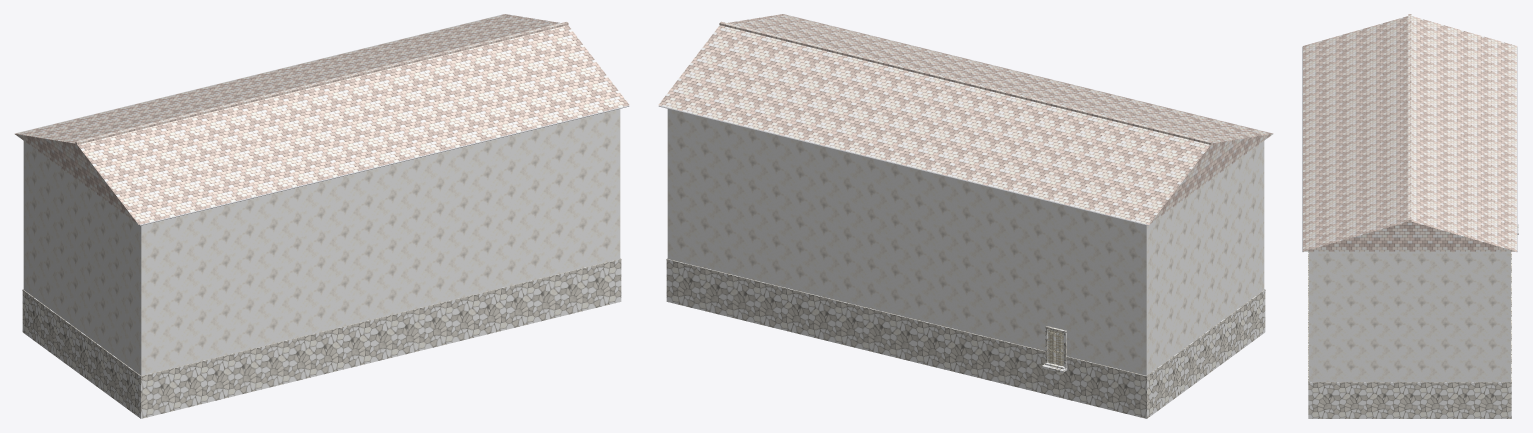
3 renders of one model, left to right at view 1: azimuth 30°, elevation 25°; view 2: azimuth 150°, elevation 25°; view 3: azimuth 270°, elevation 25°, orthographic. The views are drawn at different scales.
Visible parts, largest first — view 1: b1085384686; view 2: b1085384686; view 3: b1085384686.
Boxes of the visible parts, box(x1,y1,x2,y2) form: b1085384686: box(14, 14, 629, 418); b1085384686: box(658, 14, 1273, 418); b1085384686: box(1302, 14, 1518, 418).
Bounding box in the file's own units: 28.94 × 13.2 × 12.84.
Materials: 11 (11 with a texture image).
